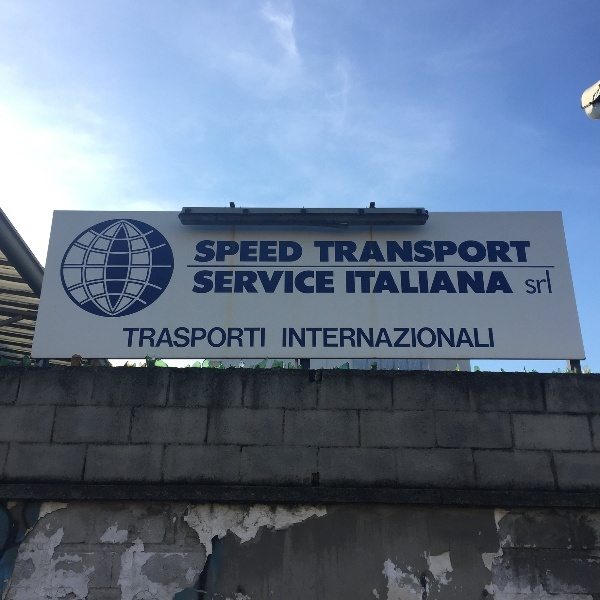text: (529, 267, 544, 296), (209, 270, 224, 296), (225, 270, 240, 296), (241, 270, 256, 296), (257, 270, 272, 296), (273, 270, 288, 296), (289, 270, 304, 296), (305, 270, 320, 296), (321, 270, 336, 296), (209, 238, 224, 263), (225, 238, 240, 263), (241, 238, 256, 263), (257, 238, 272, 263), (273, 238, 288, 263), (353, 271, 368, 296), (369, 271, 384, 296), (385, 271, 400, 296), (401, 271, 416, 296), (417, 271, 432, 296), (433, 271, 448, 296), (449, 271, 464, 296), (465, 271, 480, 296), (481, 271, 496, 296), (497, 271, 512, 296), (321, 240, 336, 264), (337, 240, 352, 264), (353, 240, 368, 264), (369, 240, 384, 264), (385, 240, 400, 264), (401, 240, 416, 264), (417, 240, 432, 264), (433, 240, 448, 264), (449, 240, 464, 264), (465, 240, 480, 264), (481, 240, 496, 264), (497, 240, 512, 264), (513, 240, 528, 264), (289, 238, 303, 263), (129, 326, 144, 349), (145, 326, 160, 349), (161, 326, 176, 349), (177, 326, 192, 349), (193, 326, 208, 349), (209, 326, 224, 349), (225, 326, 240, 349), (241, 326, 256, 349), (289, 327, 304, 350), (305, 327, 320, 350), (321, 327, 336, 350), (337, 327, 352, 350), (353, 327, 368, 350), (369, 327, 384, 350), (385, 327, 400, 350), (401, 327, 416, 350), (417, 327, 432, 350), (433, 327, 448, 350), (449, 327, 464, 350), (465, 327, 480, 350), (481, 327, 496, 350), (195, 270, 208, 296), (198, 238, 208, 263), (545, 267, 553, 296), (257, 326, 266, 349), (345, 271, 352, 296), (314, 240, 320, 264), (282, 327, 288, 350), (529, 240, 534, 264), (123, 326, 128, 349), (525, 267, 528, 296), (513, 271, 514, 296)
